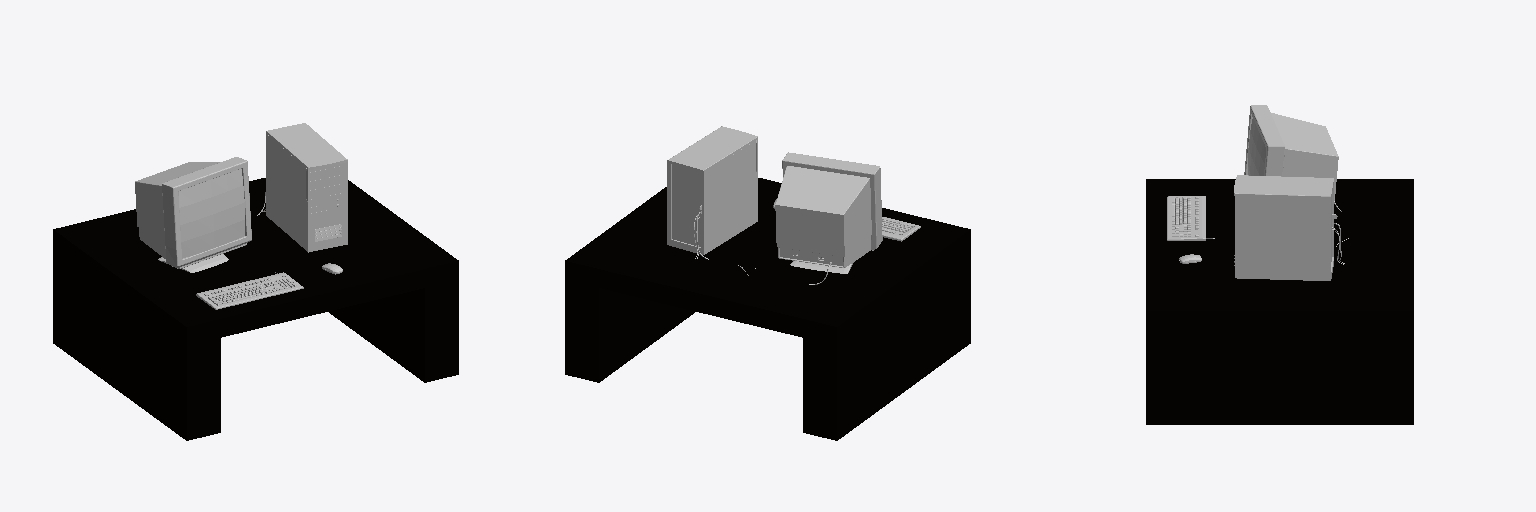
File: computer.obj
The picture shows the model from 3 angles: view 1: azimuth 30°, elevation 25°; view 2: azimuth 150°, elevation 25°; view 3: azimuth 270°, elevation 25°; orthographic projection.
Visible parts, largest first — view 1: Cube_Cube.002, retro_computer_setup_retro_computer_setup.001; view 2: Cube_Cube.002, retro_computer_setup_retro_computer_setup.001; view 3: Cube_Cube.002, retro_computer_setup_retro_computer_setup.001.
Part boxes in pixels (bbox=[...]): Cube_Cube.002: bbox=[53, 178, 458, 440]; retro_computer_setup_retro_computer_setup.001: bbox=[135, 123, 347, 309]; Cube_Cube.002: bbox=[565, 178, 970, 440]; retro_computer_setup_retro_computer_setup.001: bbox=[667, 126, 920, 284]; Cube_Cube.002: bbox=[1146, 179, 1413, 424]; retro_computer_setup_retro_computer_setup.001: bbox=[1167, 105, 1348, 280].
Bounding box in the file's own units: 1.5 × 1.08 × 1.28.